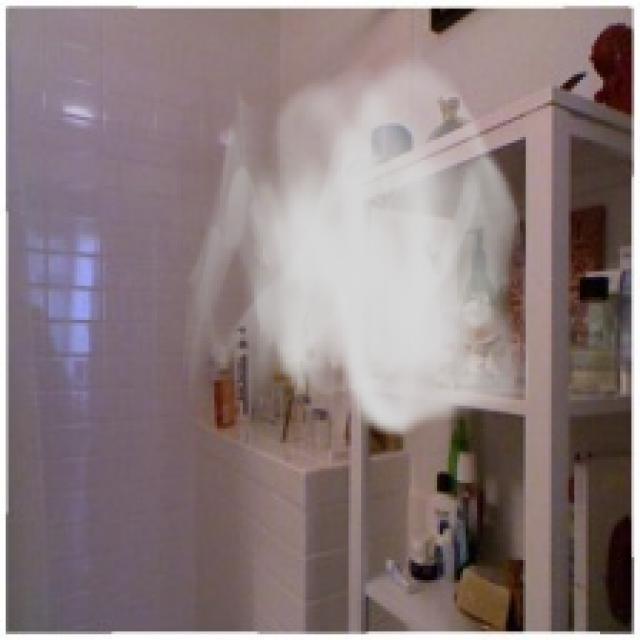smoke: (180, 46, 540, 440)
